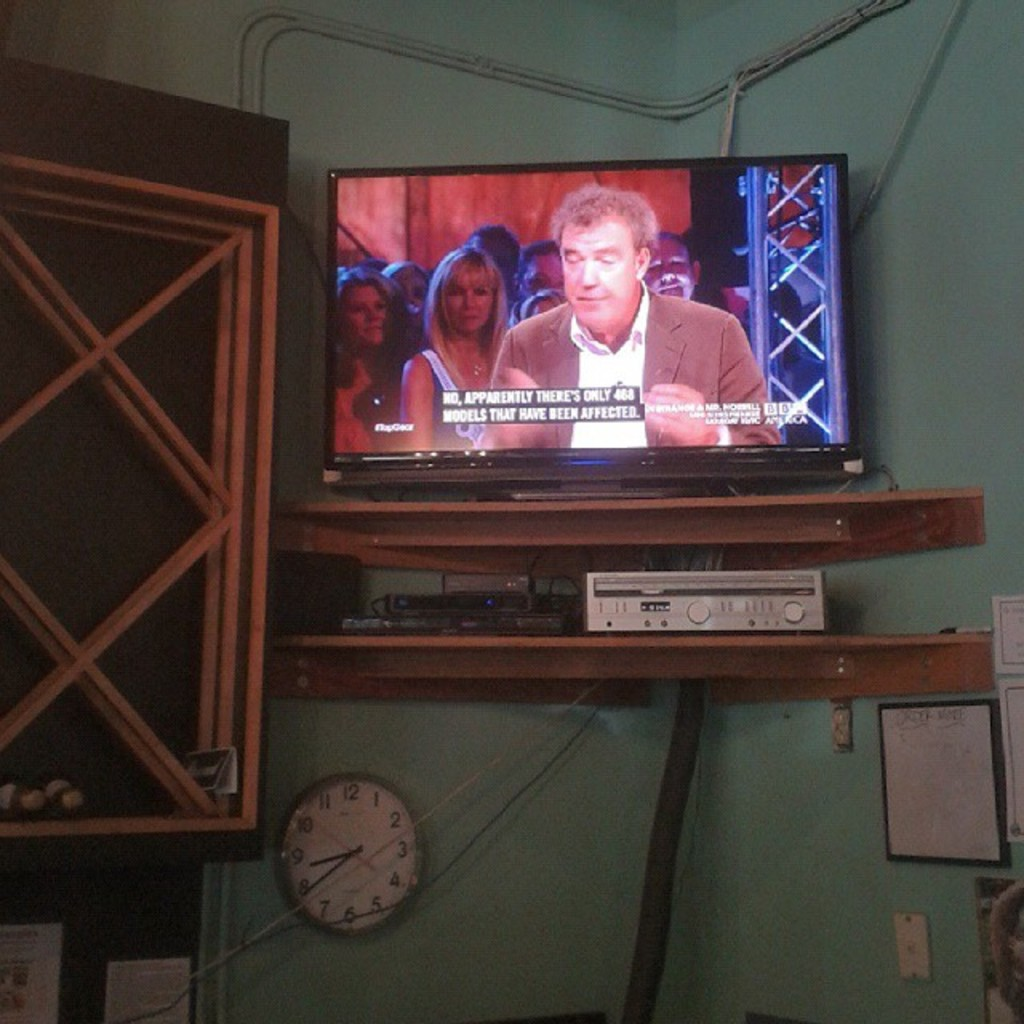Human-face: (554, 227, 619, 323), (648, 234, 690, 302), (347, 282, 390, 342), (445, 269, 490, 318), (518, 250, 562, 285)
